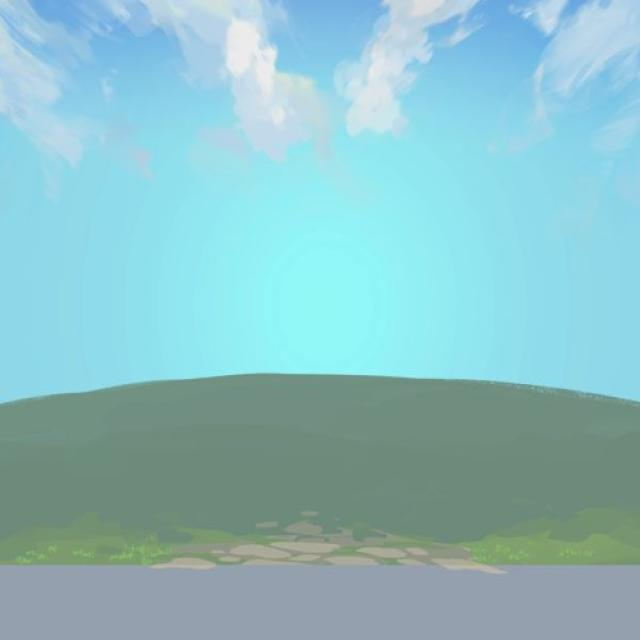Animation Frames: (0, 560, 639, 638)
Map or Location Image: (0, 370, 639, 568)
Photograph: (0, 0, 639, 637)
Text Elements: (150, 507, 504, 573), (555, 546, 596, 560)
